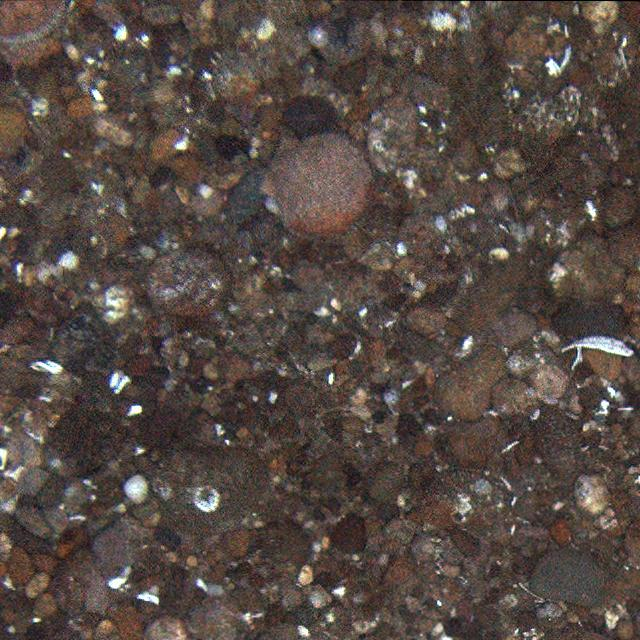scallop: (260, 127, 378, 235)
